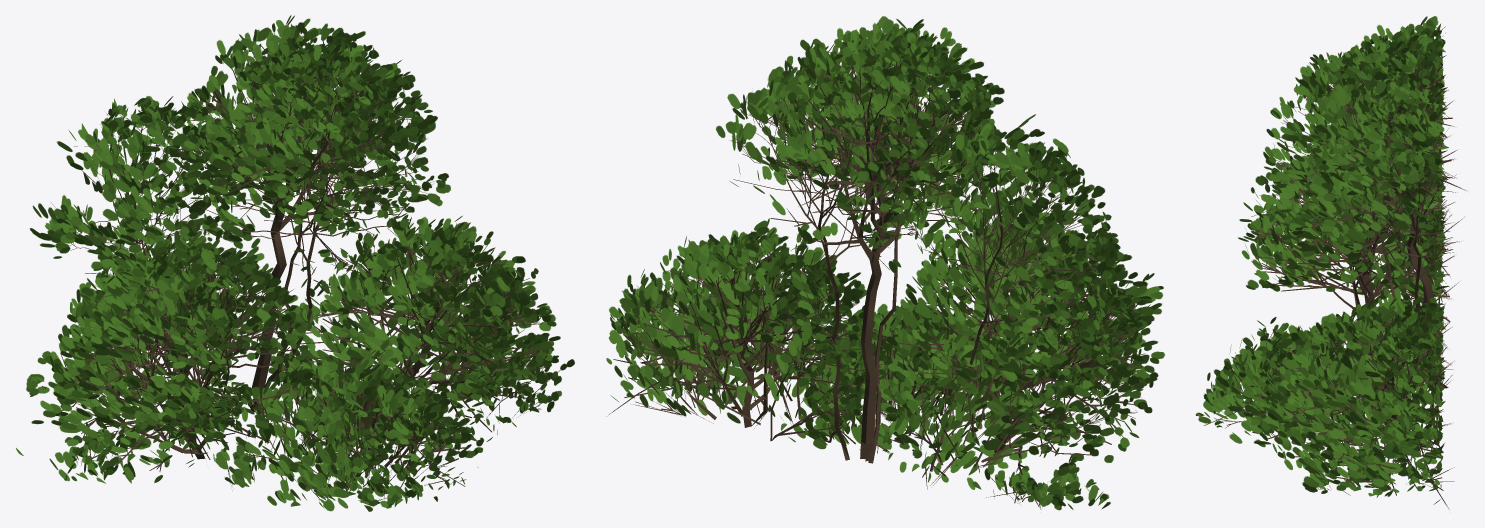
3 renders of one model, left to right at view 1: azimuth 30°, elevation 25°; view 2: azimuth 150°, elevation 25°; view 3: azimuth 270°, elevation 25°, orthographic. The views are drawn at different scales.
Parts seen in each view (by area): view 1: oak 01.001_trunk_Mat.001_0.281; view 2: oak 01.001_trunk_Mat.001_0.281; view 3: oak 01.001_trunk_Mat.001_0.281.
Boxes of the visible parts, x1=… form: oak 01.001_trunk_Mat.001_0.281: x1=16, y1=15, x2=574, y2=511; oak 01.001_trunk_Mat.001_0.281: x1=606, y1=16, x2=1164, y2=510; oak 01.001_trunk_Mat.001_0.281: x1=1195, y1=16, x2=1466, y2=508.
Size of the model in its own units: 5.1 by 4.08 by 2.66.
2 materials, 1 textured.
